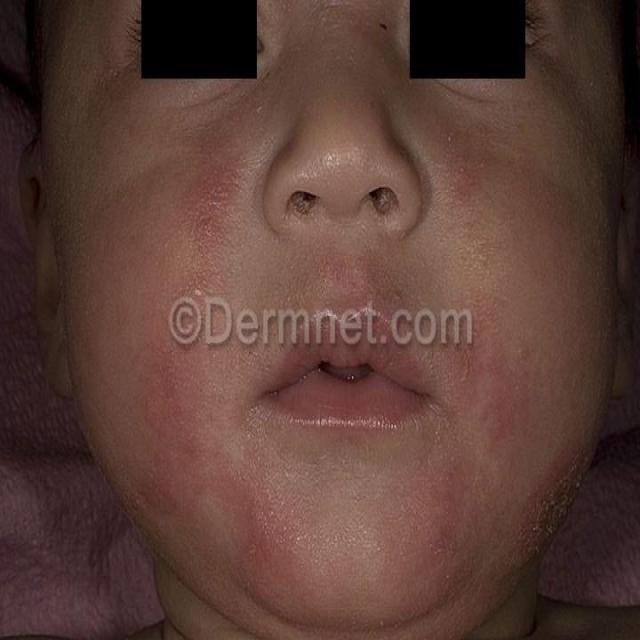Eczema: (94, 147, 294, 570), (411, 295, 543, 605)
